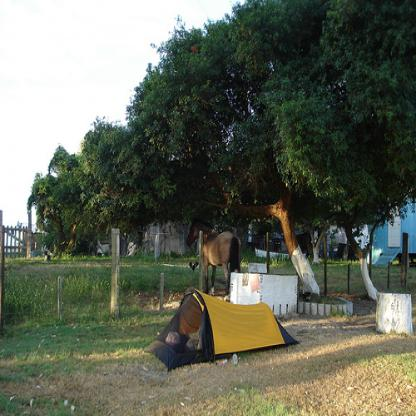horse: (187, 218, 241, 298)
